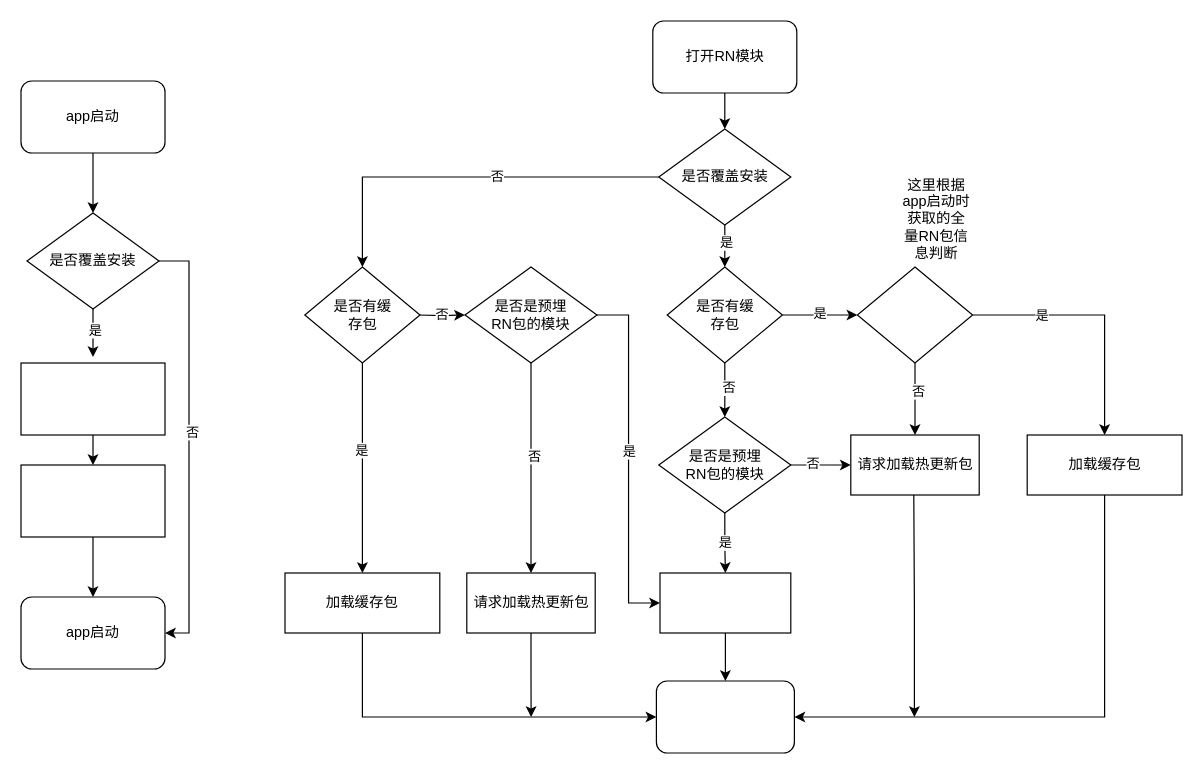
This 1204x774 diagram has some shape labels left out. Here are the shapes that lost their labels. From the top down, the centre of each, then its label:
At point (914, 314): "缓存包是最新".
At point (92, 398): "接口请求该app版本支持的全量RN包信息，并做全局缓存".
At point (92, 500): "异步检查更新缓存包，全部更新完成，更新覆盖安装标识".
At point (725, 602): "加载预埋包".
At point (724, 716): "进入RN页面".
